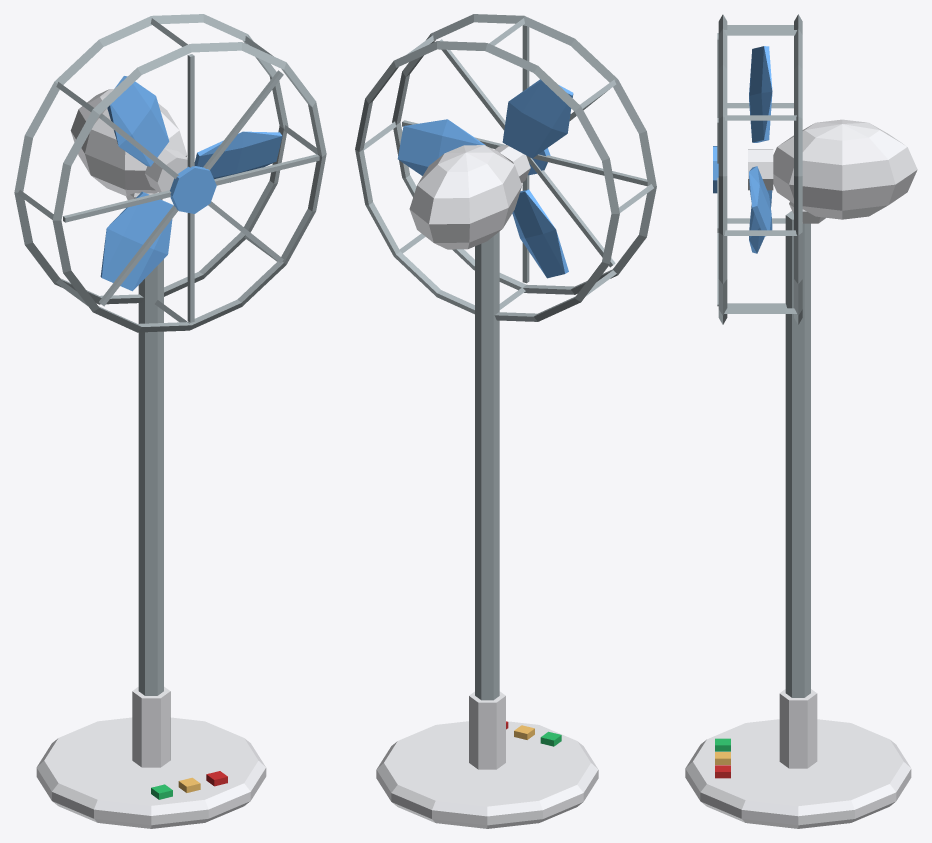
The model's file is ventilator.glb.
The picture shows the model from 3 angles, left to right: view 1: azimuth 30°, elevation 25°; view 2: azimuth 150°, elevation 25°; view 3: azimuth 270°, elevation 25°; orthographic projection. The views are drawn at different scales.
Visible parts, largest first — view 1: ventilator-m, fluegel-m; view 2: ventilator-m, fluegel-m; view 3: ventilator-m, fluegel-m.
Part boxes in pixels (x1,y1,x2,y2): ventilator-m: [14, 14, 326, 828]; fluegel-m: [100, 76, 282, 291]; ventilator-m: [355, 14, 656, 828]; fluegel-m: [397, 79, 573, 278]; ventilator-m: [685, 14, 917, 828]; fluegel-m: [748, 46, 773, 253].
Size of the model in its own units: 0.496 by 1.33 by 0.37.
